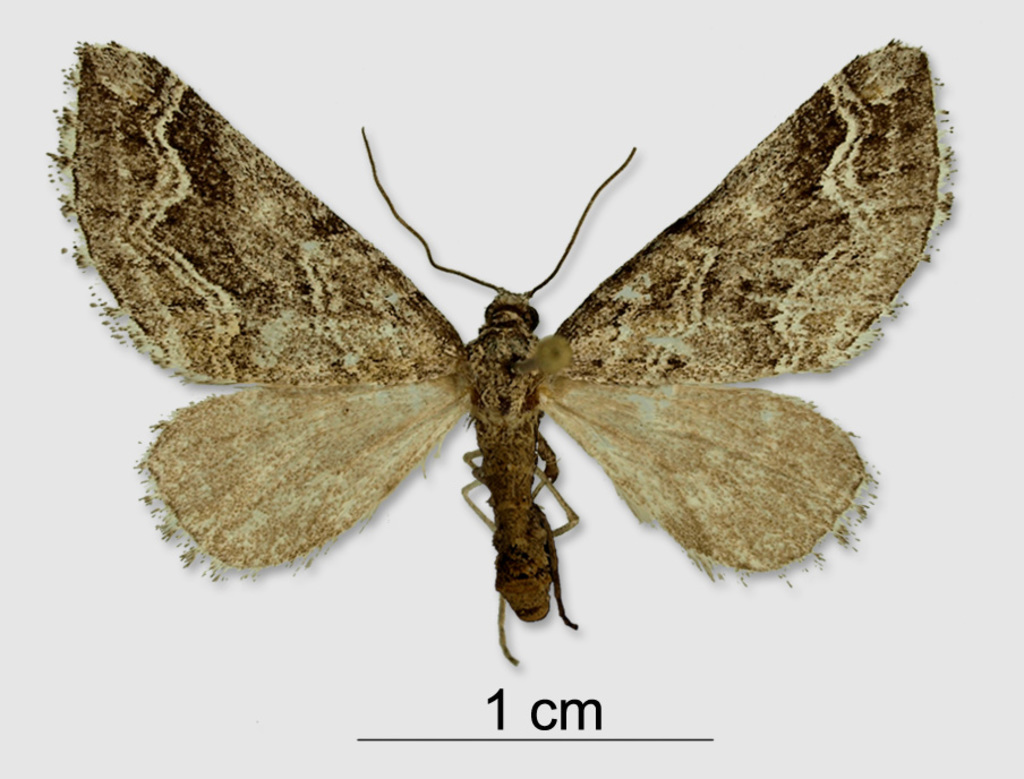Butterfly: (48, 42, 1013, 686)
